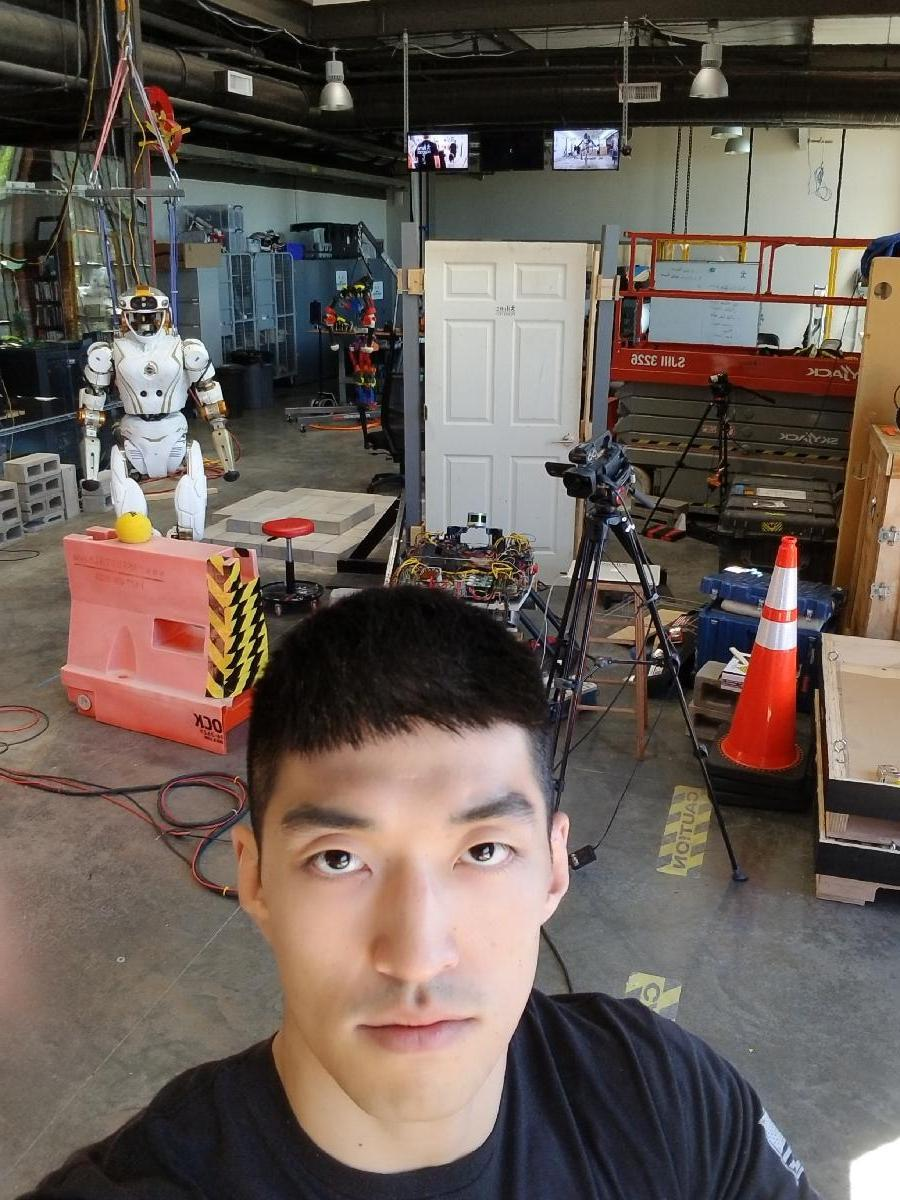door: (423, 241, 587, 588)
handle: (543, 428, 576, 454)
